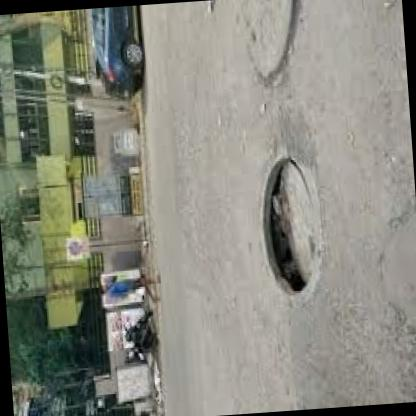manholes: (216, 92, 355, 341)
